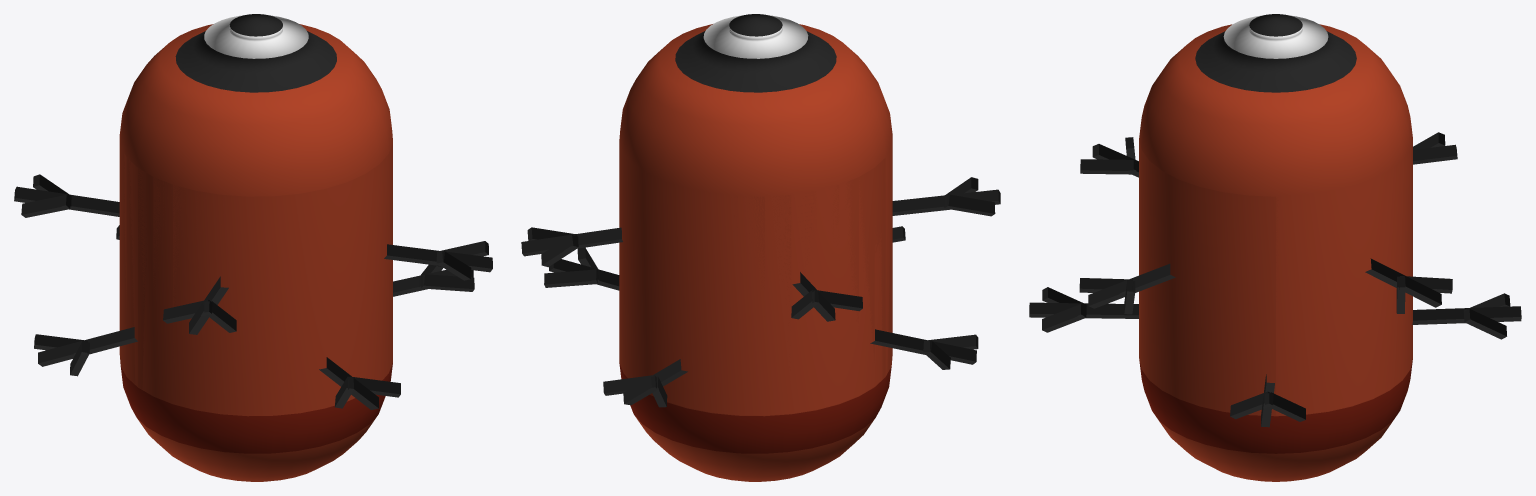
File: EnemyPlayer_ParaUnity.fbx
3 renders of one model, left to right at view 1: azimuth 30°, elevation 25°; view 2: azimuth 150°, elevation 25°; view 3: azimuth 270°, elevation 25°, orthographic.
Parts seen in each view (by area): view 1: CuerpoEnemigo, mano.006, mano.007, mano.002, mano.001, mano.005, mano.003; view 2: CuerpoEnemigo, mano.005, mano.002, mano.004, mano.003, mano, mano.006; view 3: CuerpoEnemigo, mano, mano.001, mano.007, mano.004, mano.003, mano.005, mano.006.
Part boxes in pixels (box(x1,y1,x2,y2)): CuerpoEnemigo: box(119, 14, 392, 481); mano.006: box(14, 174, 119, 217); mano.007: box(384, 241, 492, 280); mano.002: box(34, 327, 137, 376); mano.001: box(319, 357, 400, 409); mano.005: box(163, 276, 236, 334); mano.003: box(393, 264, 474, 296); CuerpoEnemigo: box(619, 14, 892, 481); mano.005: box(892, 177, 1000, 216); mano.002: box(870, 329, 978, 369); mano.004: box(521, 227, 622, 267); mano.003: box(544, 247, 619, 290); mano: box(603, 359, 687, 407); mano.006: box(791, 272, 862, 321); CuerpoEnemigo: box(1139, 14, 1412, 481); mano: box(1412, 293, 1521, 339); mano.001: box(1029, 287, 1139, 332); mano.007: box(1079, 263, 1175, 314); mano.004: box(1365, 258, 1452, 313); mano.003: box(1230, 374, 1305, 427); mano.005: box(1080, 137, 1138, 177); mano.006: box(1413, 132, 1457, 164).
Size of the model in its own units: 361 by 362 by 359.
Materials: 2 (2 with a texture image).
